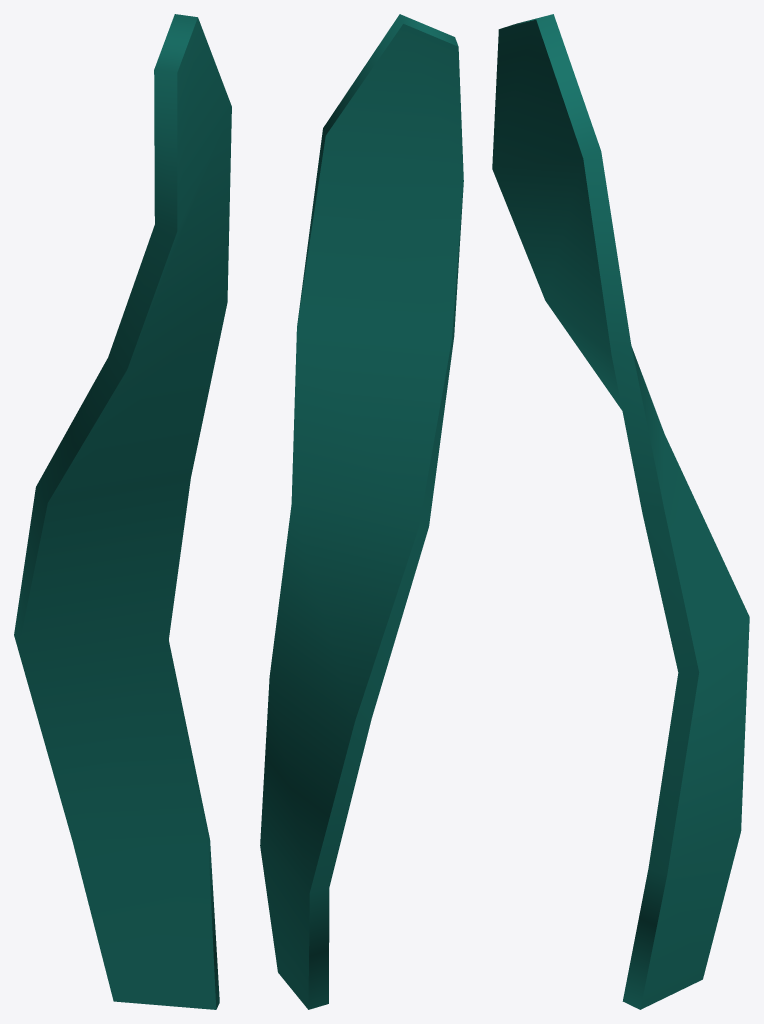
Rendered from Sea_plant_5_5.002.fbx.
The picture shows the model from 3 angles, left to right: view 1: azimuth 30°, elevation 25°; view 2: azimuth 150°, elevation 25°; view 3: azimuth 270°, elevation 25°; orthographic projection. The views are drawn at different scales.
Parts seen in each view (by area): view 1: Sea_plant_5_5.002; view 2: Sea_plant_5_5.002; view 3: Sea_plant_5_5.002.
Part boxes in pixels (x1=…): Sea_plant_5_5.002: x1=14, y1=14, x2=231, y2=1009; Sea_plant_5_5.002: x1=260, y1=14, x2=463, y2=1009; Sea_plant_5_5.002: x1=492, y1=14, x2=749, y2=1009.
Bounding box in the file's own units: 0.2459 × 1.4 × 0.3421.
